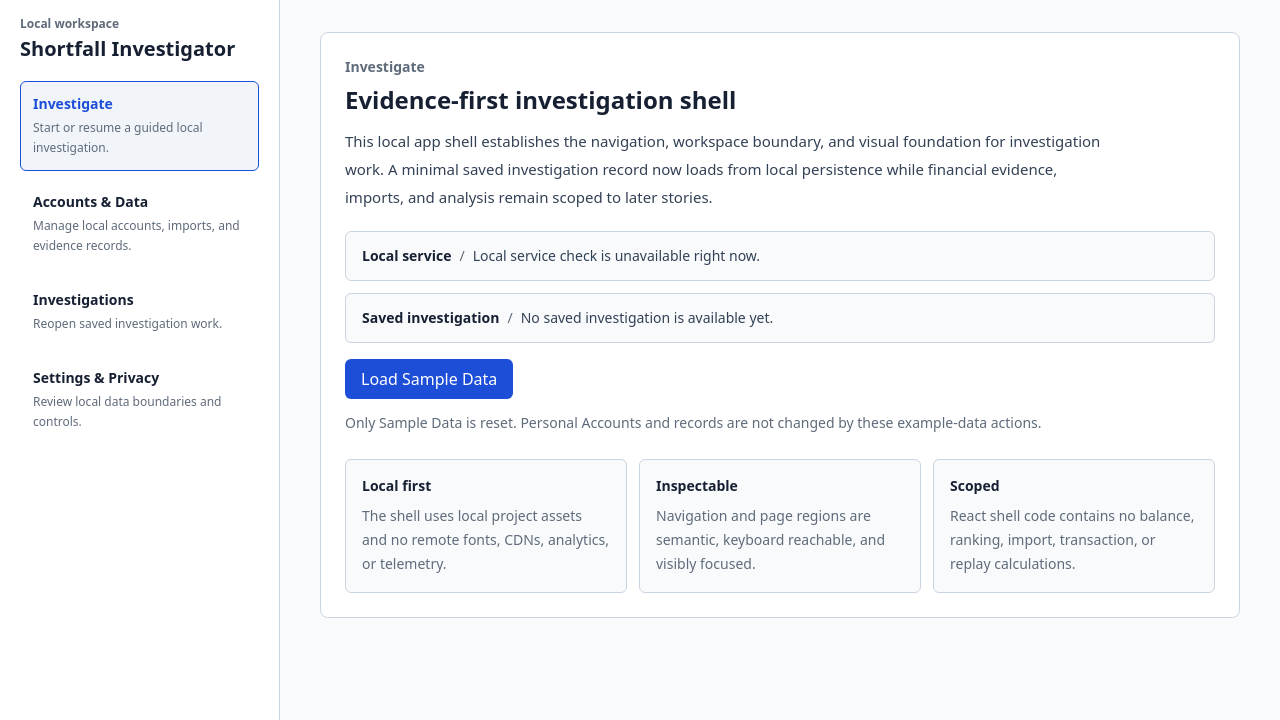
Test: Shortfall Investigator app shell › shows a safe Sample Data command failure message
Click the button "Load Sample Data": (429, 379) [345,359,513,399]
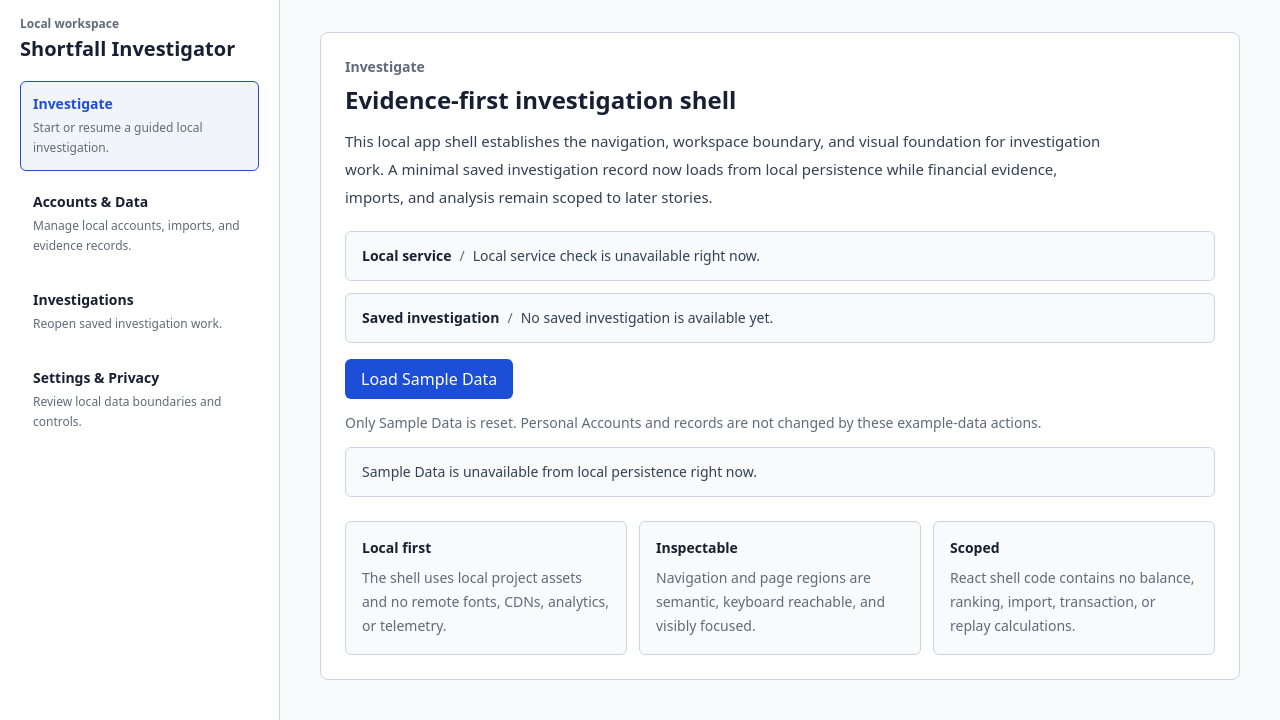
Expected: the text "Sample Data is unavailable from local persistence right now." is shown, [345,447,1215,497]
